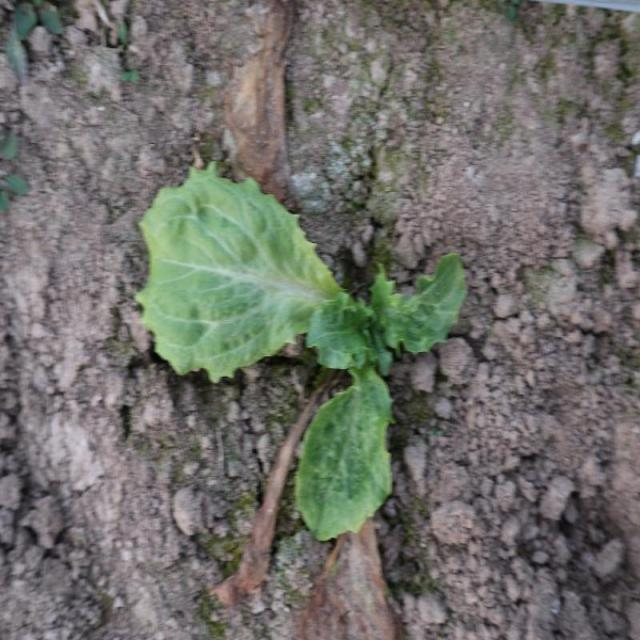crop: (293, 250, 469, 542)
